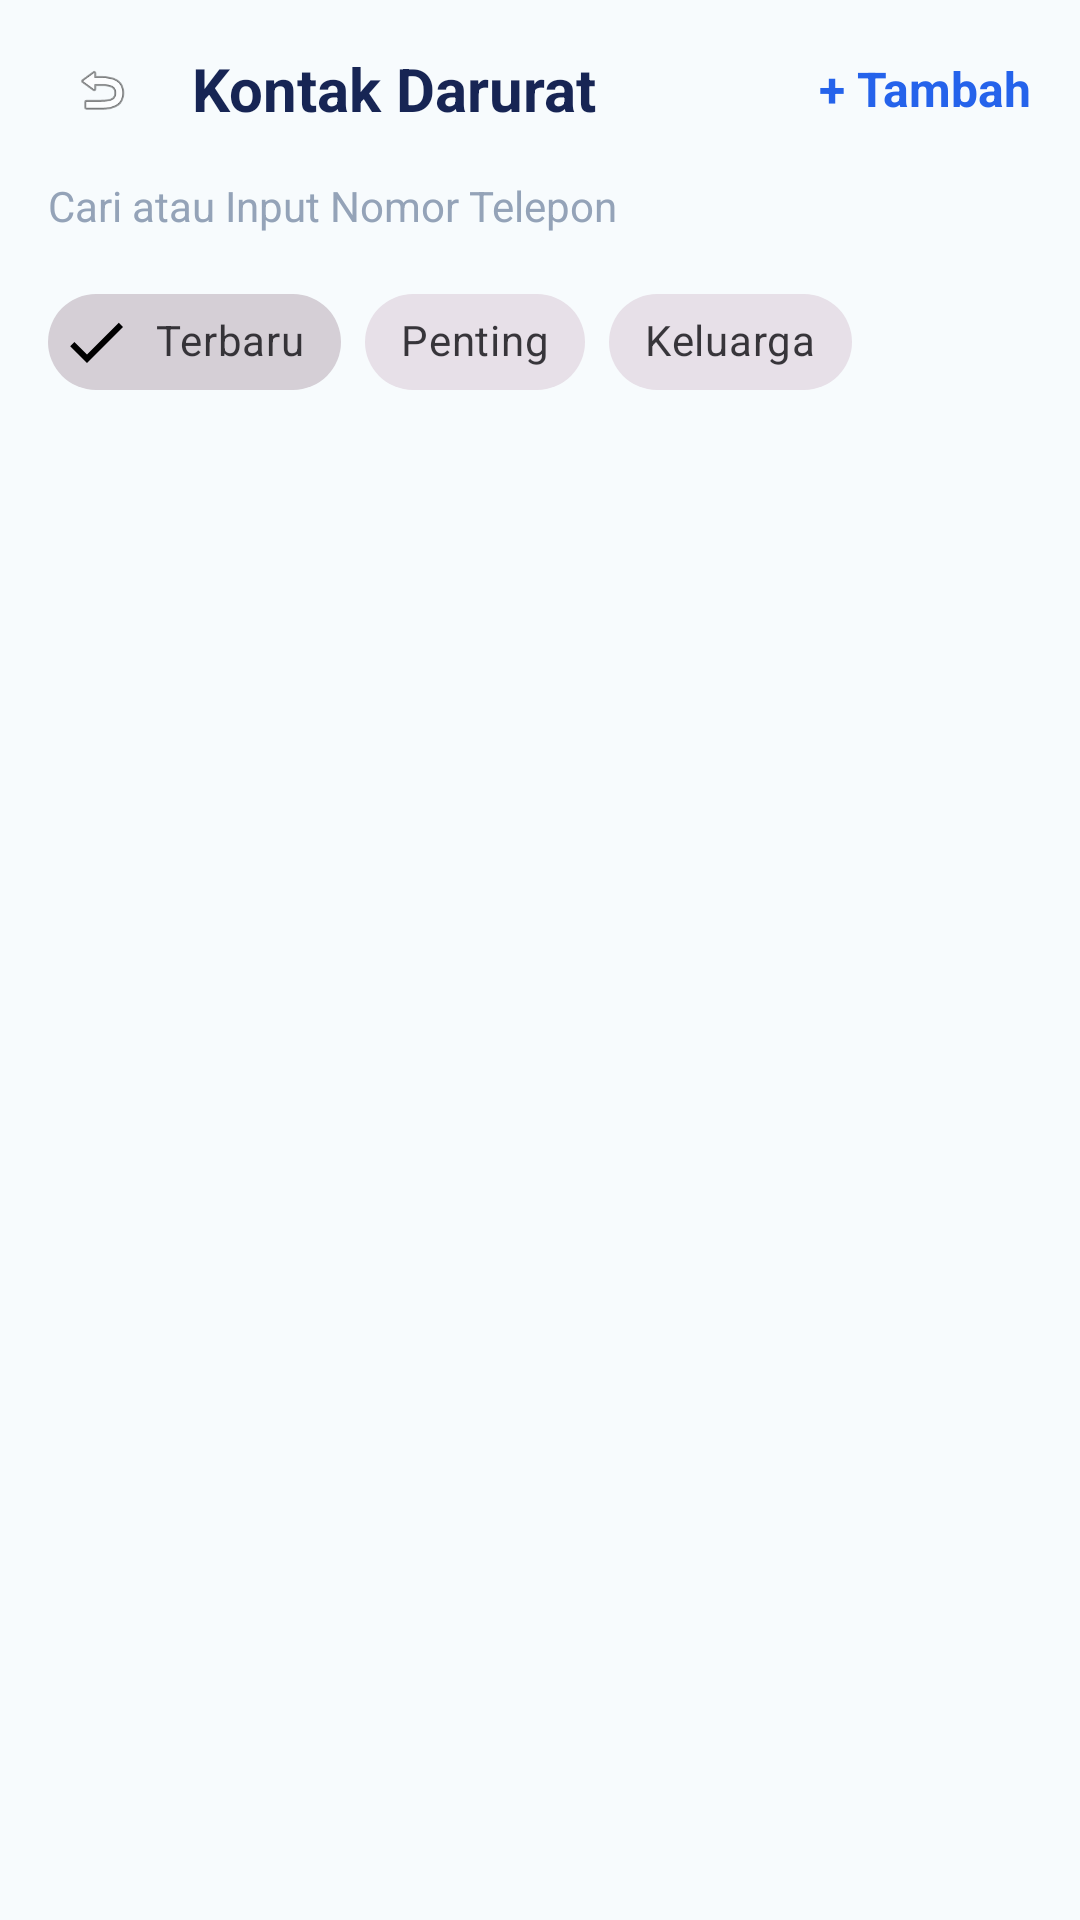

Screen size 1080px x 1920px. Icon name, then its box in pixels as (x1, y1, x2, y2):
Kembali: (81, 71, 125, 110)
